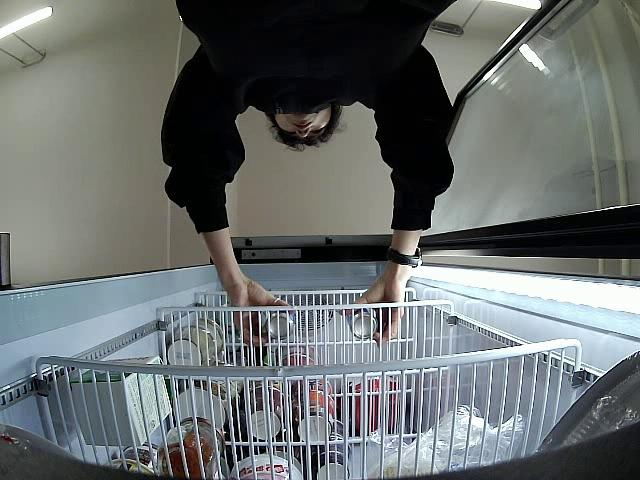00_hand: (231, 275, 295, 345), (340, 282, 405, 347)
15_letsbe: (349, 305, 377, 340), (266, 305, 293, 339)
